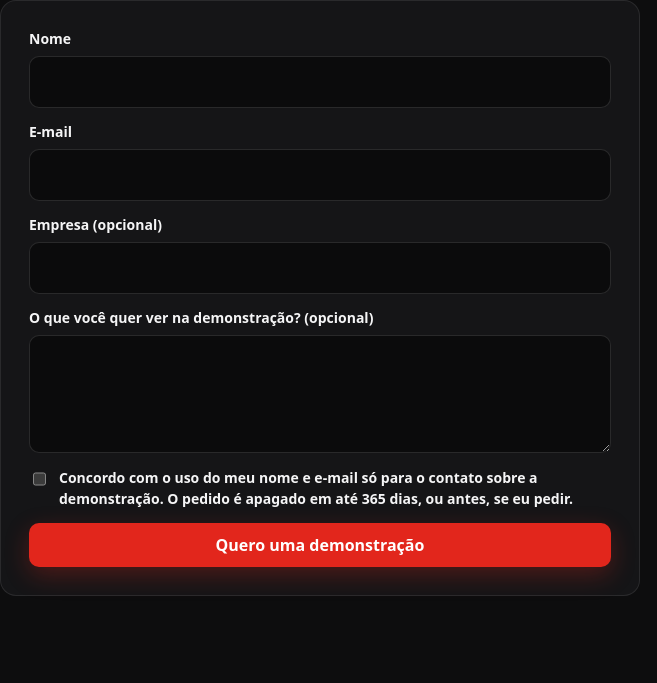
Test: FormularioDeDemonstracao › o 400 da API mostra os erros por campo
Type "Ana Souza" into the field labelled "Nome" at x=320, y=82, box [29,56,611,108]
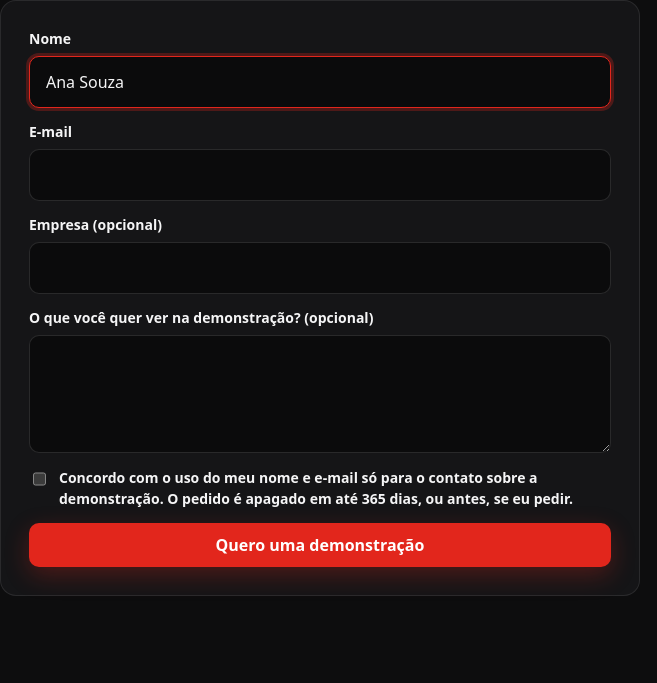
Type "ana@empresa.com.br" into the field labelled "E-mail" at x=320, y=175, box [29,149,611,201]
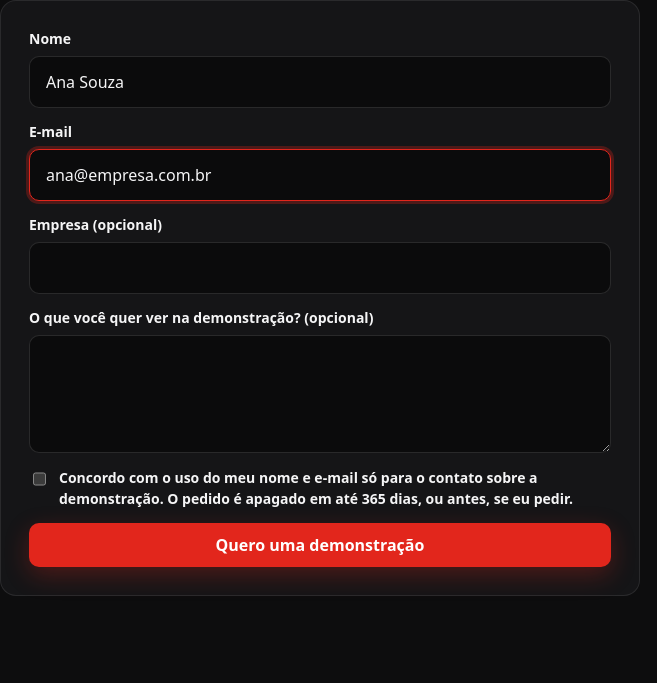
Type "Empresa X" into the field labelled "Empresa (opcional)" at x=320, y=268, box [29,242,611,294]
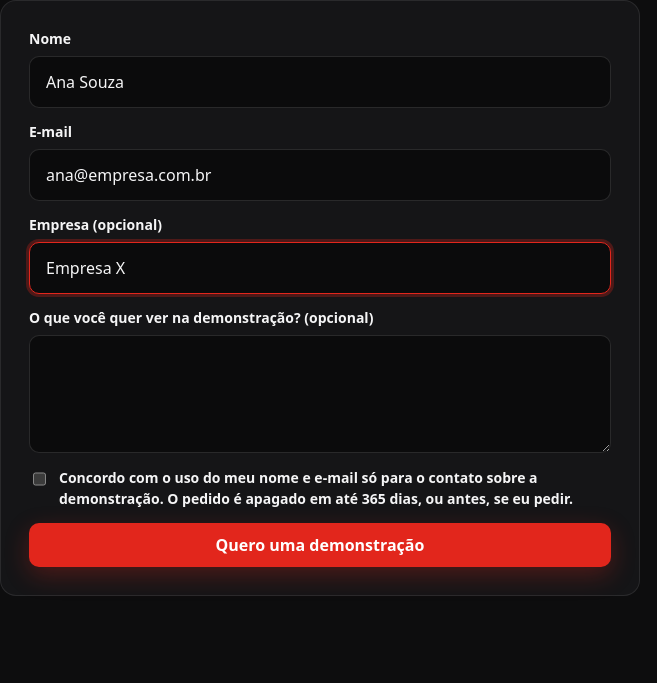
Click the checkbox at x=40, y=479, box [33,470,46,488]
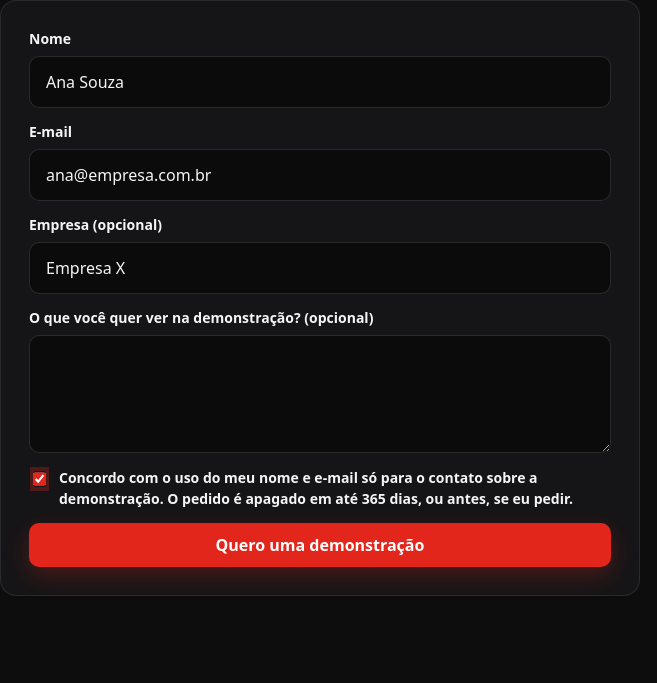
Click the button "Quero uma demonstração" at x=320, y=545, box [29,523,611,567]
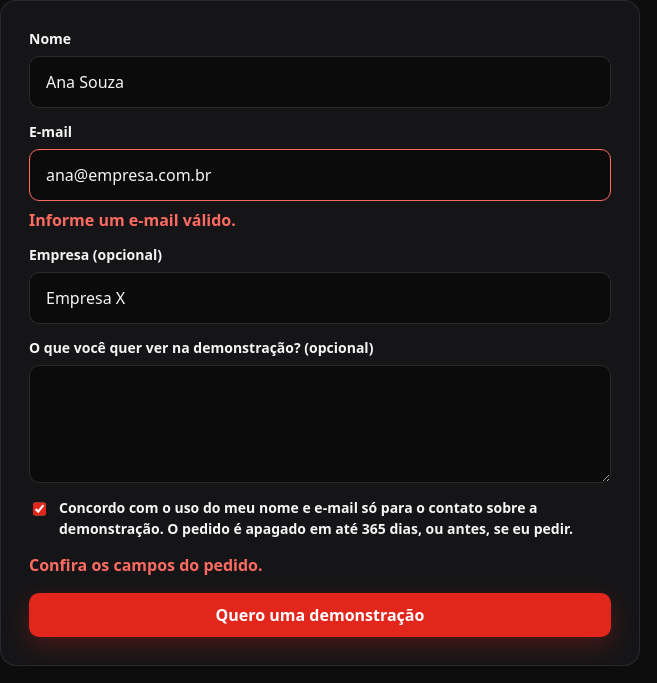
expect the text "Informe um e-mail válido." is shown: met, box [29,209,236,231]
expect the message reads "Confira os campos do pedido.": met, box [29,554,263,576]
